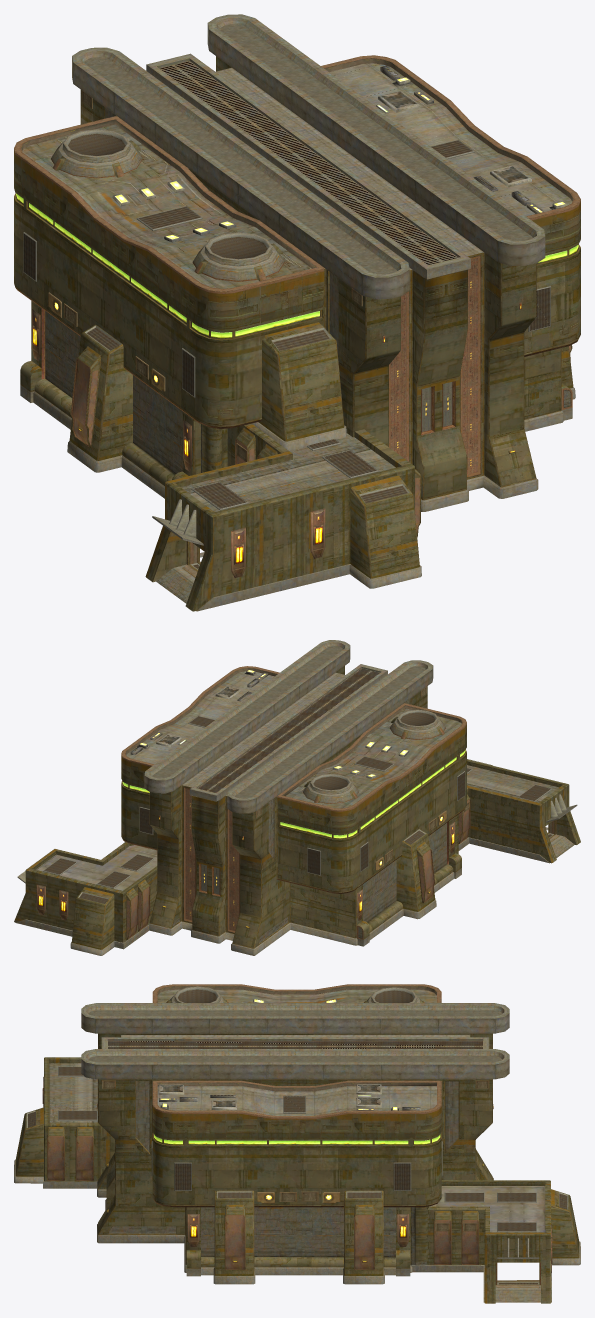
File: all_arch_und_factory_small_exterior.glb
3 views of the same model, one above another, from view 1: azimuth 30°, elevation 25°; view 2: azimuth 150°, elevation 25°; view 3: azimuth 270°, elevation 25° (orthographic). The views are drawn at different scales.
Visible parts, largest first — view 1: all_arch_und_factory_small_exterior; view 2: all_arch_und_factory_small_exterior; view 3: all_arch_und_factory_small_exterior.
Part boxes in pixels (box(x1,y1,x2,y2)): all_arch_und_factory_small_exterior: box(14, 14, 580, 611); all_arch_und_factory_small_exterior: box(14, 640, 580, 955); all_arch_und_factory_small_exterior: box(14, 984, 580, 1303).
Size of the model in its own units: 10.1 by 4.43 by 12.64.
Materials: 10 (10 with a texture image).
